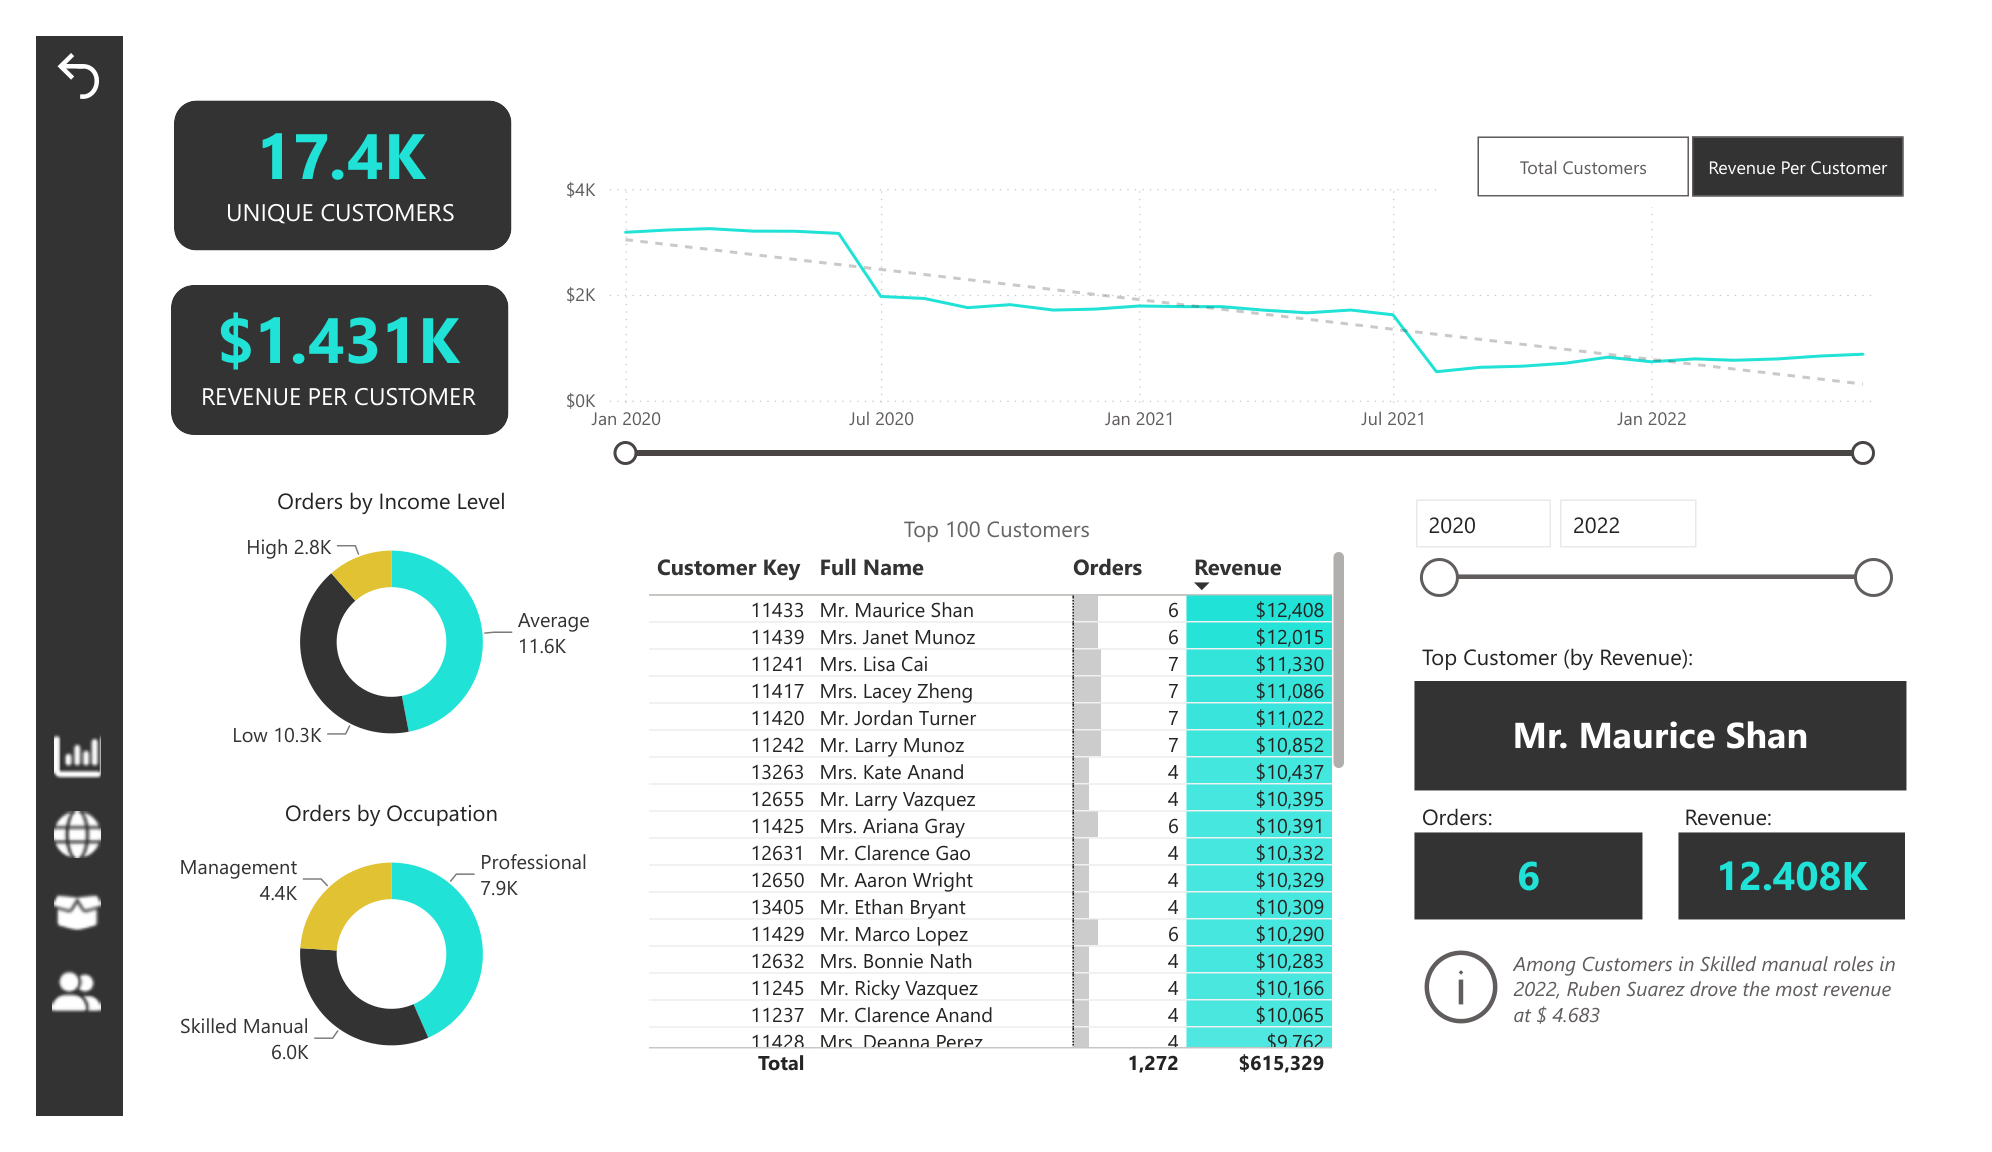

Layout of this report page (visuals, bound fields, positions):
{"tool":"powerbi","page":{"name":"Customer Detail","canvas":[1280,720],"ordinal":3},"visuals":[{"type":"shape","title":"Left Navbar","box":[0,0,57.5,720],"z":0},{"type":"shape","box":[89.7,165.6,225,100],"z":1000},{"type":"actionButton","box":[7.8,460.3,39.6,39.6],"z":1000,"group":"g1"},{"type":"shape","box":[91.6,43.1,225,100],"z":2000},{"type":"actionButton","box":[7.8,512.3,39.6,39.6],"z":2000,"group":"g1"},{"type":"cardVisual","fields":{"Data":["Measure Table.Total Customers"]},"box":[79.9,32.3,246.2,111.2],"z":3000},{"type":"actionButton","box":[7.2,617.6,40.9,39.6],"z":3000,"group":"g1"},{"type":"cardVisual","fields":{"Data":["Measure Table.Avg Revenue Per Customer"]},"box":[78.4,154.8,246.2,111.2],"z":4000},{"type":"actionButton","box":[7.8,564.3,39.6,40.9],"z":4000,"group":"g1"},{"type":"lineChart","fields":{"Category":["Calendar Lookup.Calendar Hierarchy.Start of Year","Calendar Lookup.Calendar Hierarchy.Start of Month","Calendar Lookup.Calendar Hierarchy.Start of Week","Calendar Lookup.Calendar Hierarchy.Date"],"Y":["Measure Table.Avg Revenue Per Customer"]},"box":[347.8,88.2,898.9,200.8],"z":5000},{"type":"donutChart","title":"Orders by Income Level","fields":{"Category":["Customer Lookup.Income Level"],"Y":["Measure Table.Total Orders"]},"box":[89.6,299.2,294.1,189.3],"z":6000},{"type":"donutChart","title":"Orders by Occupation","fields":{"Category":["Customer Lookup.Occupation"],"Y":["Measure Table.Total Orders"]},"box":[89.6,507.5,294.1,189.3],"z":7000},{"type":"tableEx","title":"Top 100 Customers","fields":{"Values":["Customer Lookup.CustomerKey","Customer Lookup.Full Name","Measure Table.Total Orders","Measure Table.Total Revenue"]},"box":[402.8,318.4,475.7,378.5],"z":8000},{"type":"card","fields":{"Values":["Measure Table.Full Name (Customer Detail)"]},"box":[919.2,430.2,327.4,72.9],"z":9000},{"type":"card","fields":{"Values":["Measure Table.Total Revenue (Customer Detail)"]},"box":[1094.8,531.1,151.3,57.9],"z":10000},{"type":"card","fields":{"Values":["Measure Table.Total Orders (Customer Detail)"]},"box":[919,531.1,152.5,57.9],"z":11000},{"type":"textbox","box":[919.2,398.3,198.2,33.2],"z":12000},{"type":"textbox","box":[919.2,505.1,152.2,33.2],"z":13000},{"type":"textbox","box":[1094.4,505.1,152.2,33.2],"z":14000},{"type":"slicer","fields":{"Values":["Calendar Lookup.Year"]},"box":[907,299.4,339.4,101.3],"z":15000},{"type":"actionButton","box":[919.2,603.2,327.2,62.3],"z":16000},{"type":"actionButton","box":[7.6,6.5,43.3,40.1],"z":17000},{"type":"group","id":"g1","title":"Navigation Buttons","box":[7.2,460.3,40.9,196.9],"z":18000},{"type":"slicer","fields":{"Values":["Customer Metric Selection.Customer Metric Selection"]},"box":[934.8,60.1,333.8,53.4],"z":20501}]}

Visuals, with their boxes in screenshot pixels (x1, y1, x2, y2), scaled from the page's 1280x720 canvas onto the 1992x1152 screenshot:
"Left Navbar" shape: 0/0/89/1151
shape: 140/265/490/425
actionButton: 12/736/74/800
shape: 143/69/493/229
actionButton: 12/820/74/883
cardVisual - Measure Table.Total Customers: 124/52/507/230
actionButton: 11/988/75/1052
cardVisual - Measure Table.Avg Revenue Per Customer: 122/248/505/426
actionButton: 12/903/74/968
lineChart - Calendar Lookup.Calendar Hierarchy.Start of Year x Calendar Lookup.Calendar Hierarchy.Start of Month: 541/141/1940/462
"Orders by Income Level" donutChart: 139/479/597/782
"Orders by Occupation" donutChart: 139/812/597/1115
"Top 100 Customers" tableEx: 627/509/1367/1115
card - Measure Table.Full Name (Customer Detail): 1431/688/1940/805
card - Measure Table.Total Revenue (Customer Detail): 1704/850/1939/942
card - Measure Table.Total Orders (Customer Detail): 1430/850/1668/942
textbox: 1431/637/1739/690
textbox: 1431/808/1667/861
textbox: 1703/808/1940/861
slicer - Calendar Lookup.Year: 1412/479/1940/641
actionButton: 1431/965/1940/1065
actionButton: 12/10/79/75
"Navigation Buttons" group: 11/736/75/1052
slicer - Customer Metric Selection.Customer Metric Selection: 1455/96/1974/182
